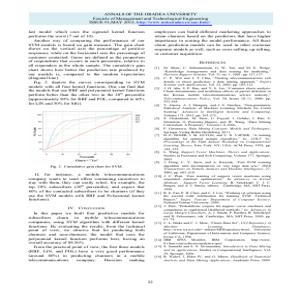diagram: (24, 108, 147, 171)
text: (153, 29, 276, 266), (25, 173, 148, 265), (26, 29, 149, 106), (89, 10, 215, 26)
